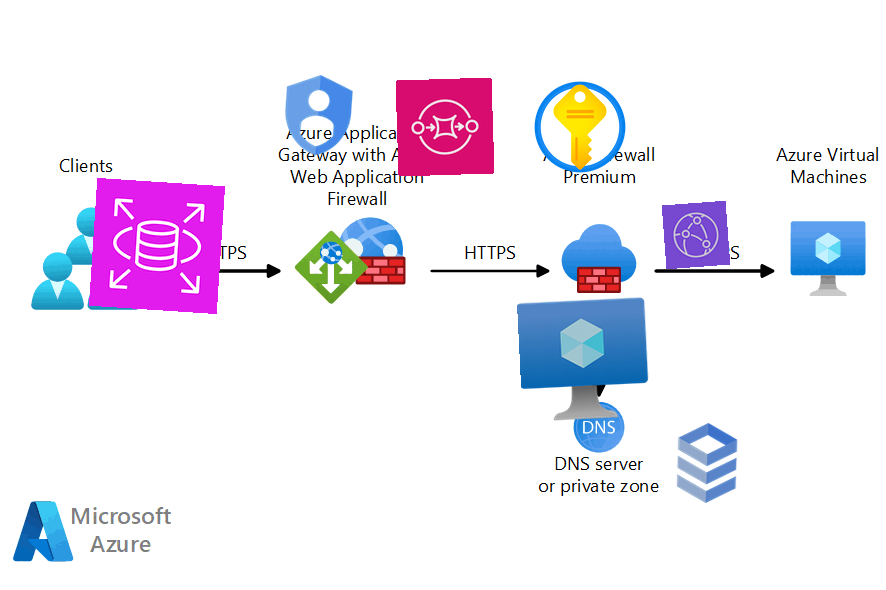aws_amazon_cloudfront: (661, 200, 731, 270)
aws_amazon_rds: (88, 177, 226, 315)
aws_amazon_simple_queue_service: (395, 77, 495, 177)
azure_key_vaults: (531, 78, 629, 176)
azure_virtual_machine: (516, 295, 652, 431)
gcp_cloud_sql: (657, 413, 757, 513)
gcp_identity_and_access_management: (266, 63, 370, 167)
